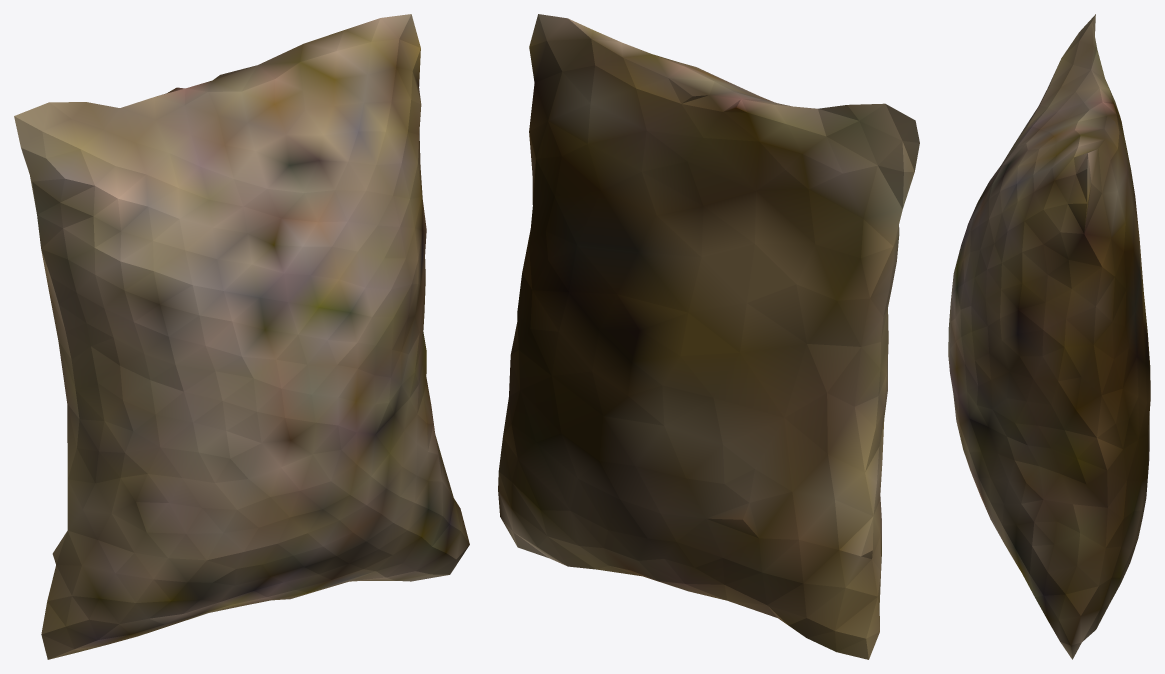
The model's file is coffee-sack1.dae.
3 renders of one model, left to right at view 1: azimuth 30°, elevation 25°; view 2: azimuth 150°, elevation 25°; view 3: azimuth 270°, elevation 25°, orthographic. The views are drawn at different scales.
Visible parts, largest first — view 1: node; view 2: node; view 3: node.
Part boxes in pixels (left/top/right/bottom): node: left=14, top=14, right=469, bottom=659; node: left=498, top=14, right=919, bottom=659; node: left=948, top=14, right=1150, bottom=659.
Bounding box in the file's own units: 0.6654 × 0.8244 × 0.3099.
